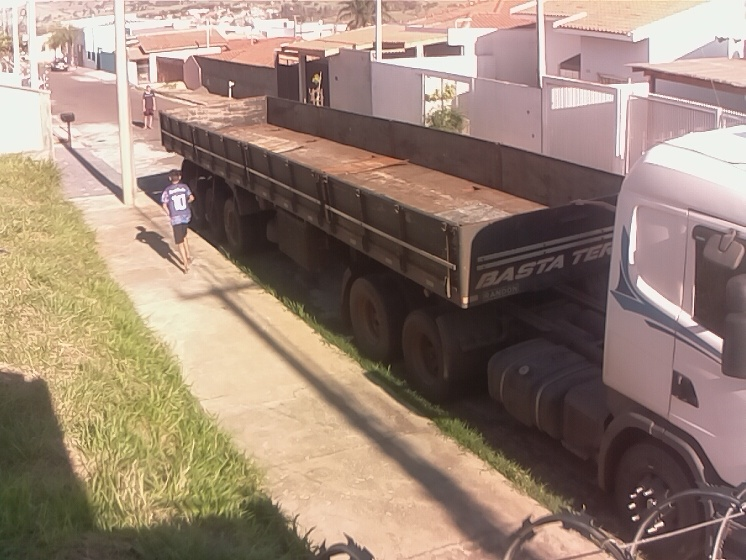person: (158, 167, 204, 275), (139, 82, 158, 134)
